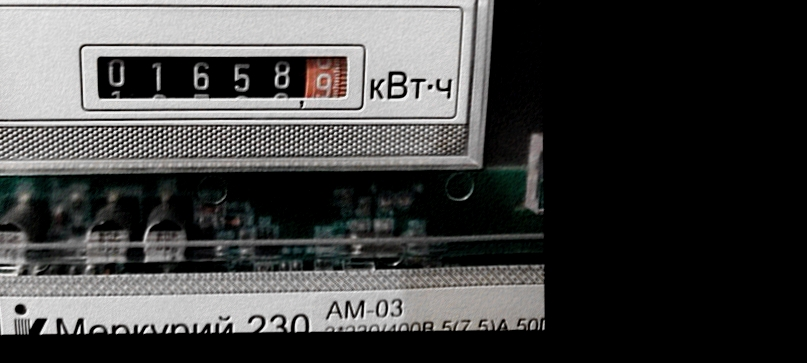0: (106, 57, 127, 87)
1: (149, 60, 167, 92)
5: (231, 61, 253, 92)
6: (191, 58, 212, 92)
8: (272, 58, 293, 90)
9: (312, 71, 334, 100)
screen: (70, 33, 371, 119)
